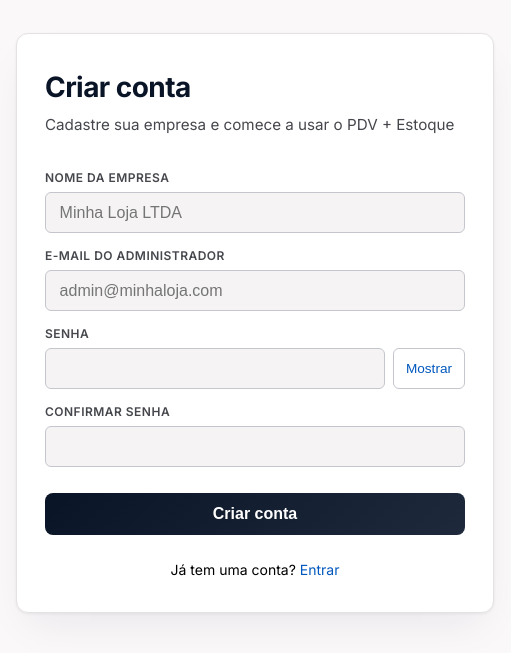
it: RegisterTenantPage › exibe erro quando as senhas não coincidem
This screenshot has width=511, height=653.
Type "Loja Teste" into the field labelled "Nome da empresa" at [255, 213], box x1=45 y1=192 x2=465 y2=233
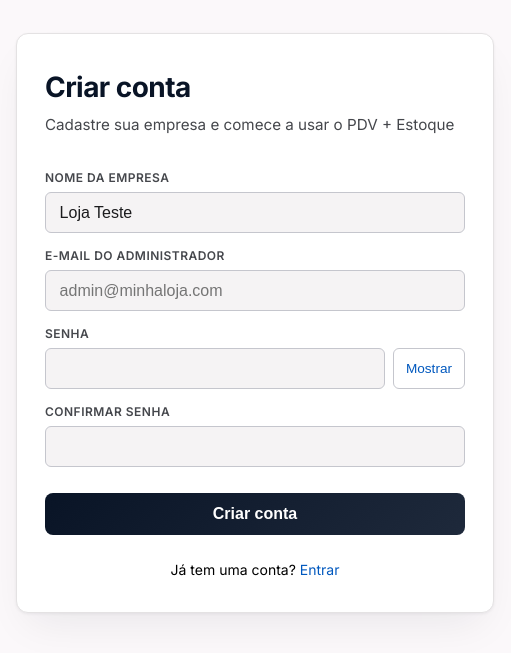
Type "admin@loja.com" into the field labelled "E-mail do administrador" at [255, 291], box x1=45 y1=270 x2=465 y2=311
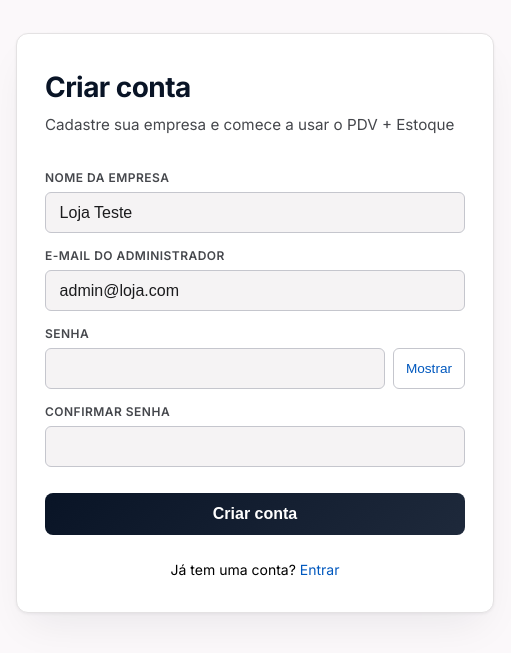
Type "senha123" into the password field labelled "Senha" at [215, 369], box x1=45 y1=348 x2=385 y2=389
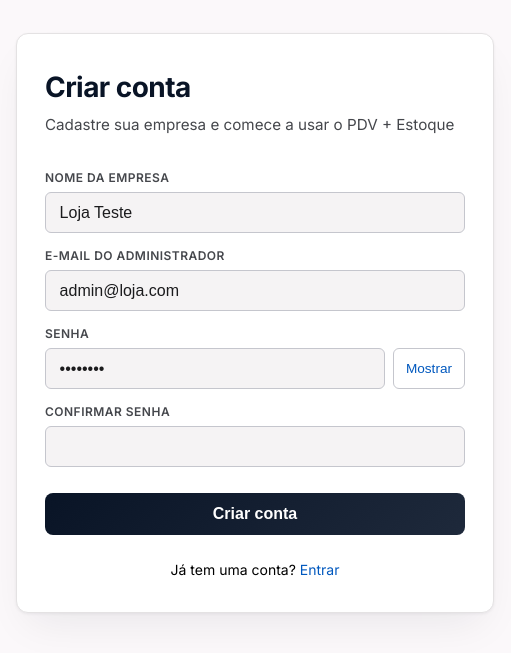
Type "senha456" into the password field labelled "Confirmar senha" at [255, 447], box x1=45 y1=426 x2=465 y2=467
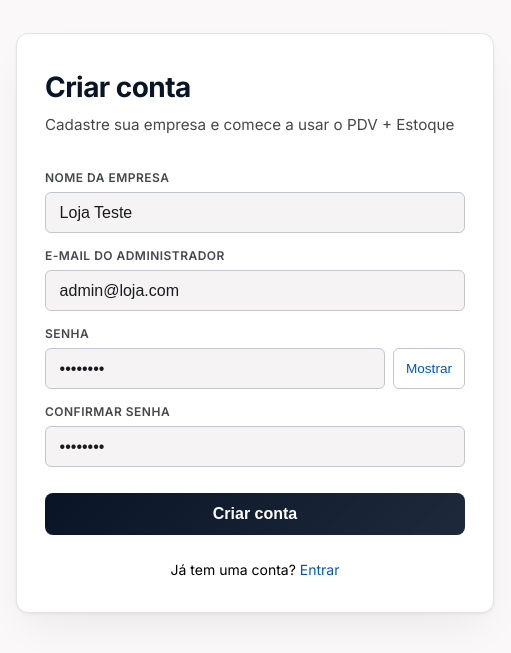
Click the button "Criar conta" at [255, 514], box x1=45 y1=493 x2=465 y2=535
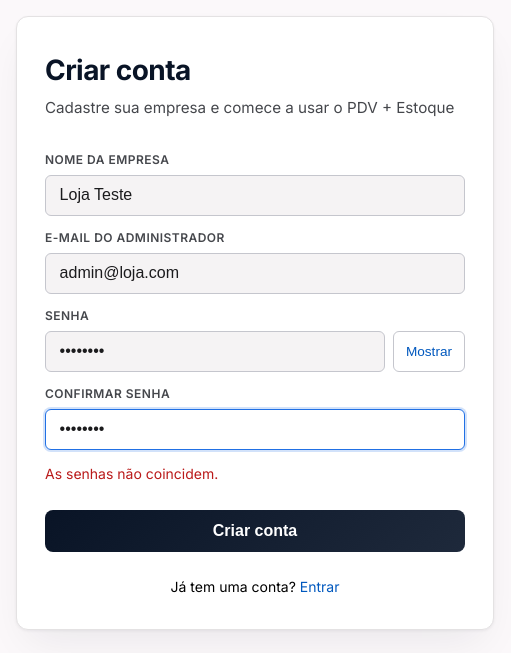
Expected: the text "As senhas não coincidem." is shown, x1=45 y1=465 x2=218 y2=482
